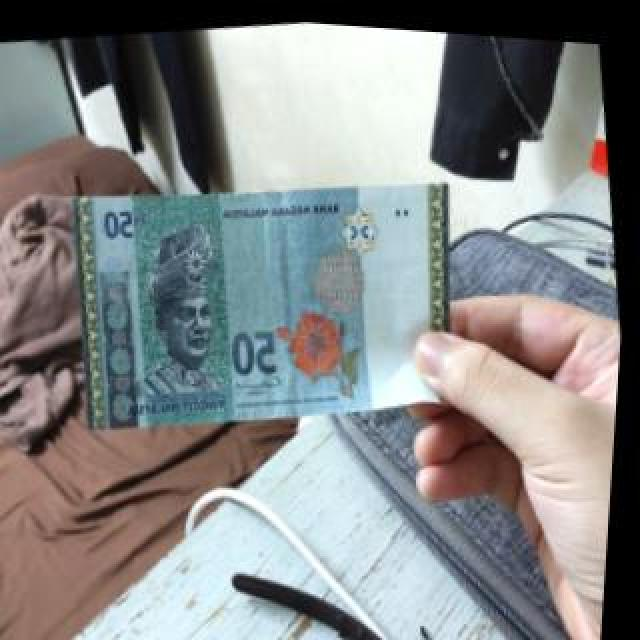50 Ringgit: (62, 140, 485, 446)
